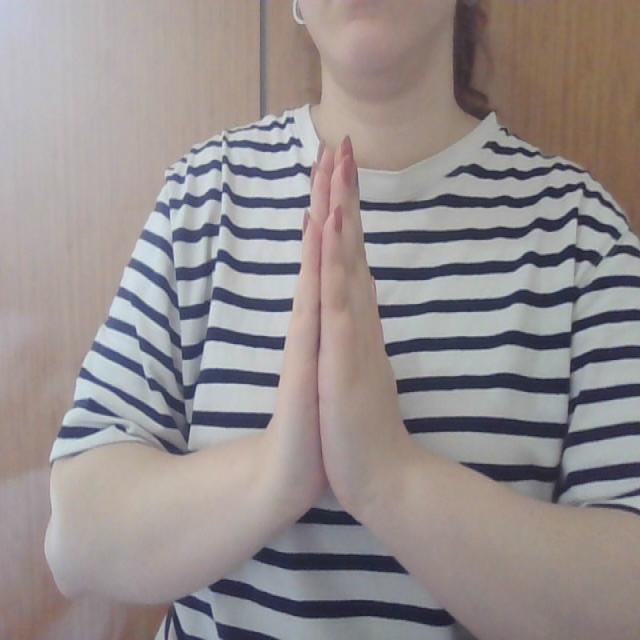Ozur-Dilemek: (262, 116, 413, 566)
